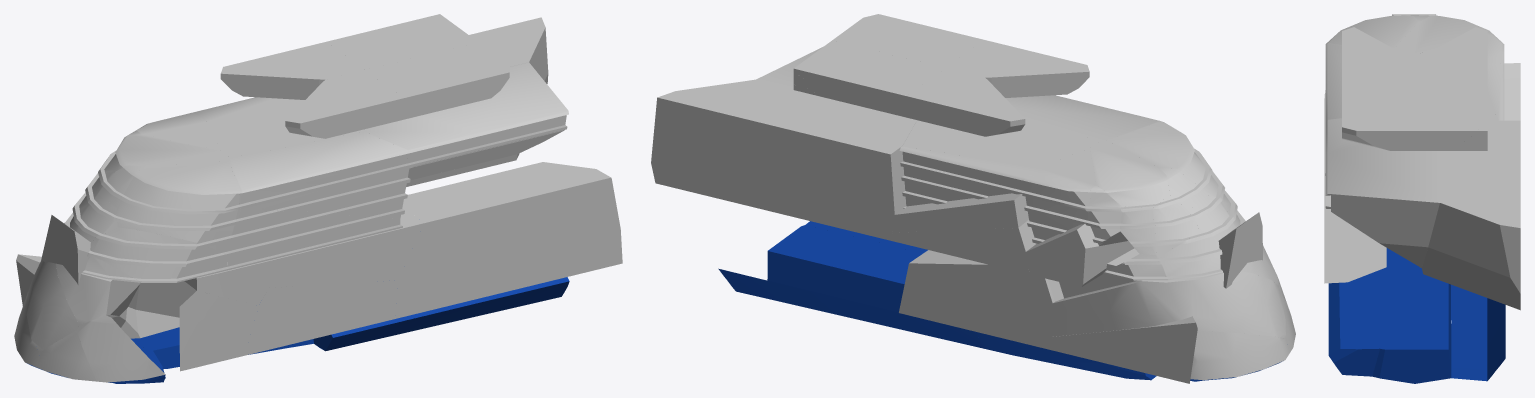
The model's file is ship_break_rear.fbx.
The picture shows the model from 3 angles, left to right: view 1: azimuth 30°, elevation 25°; view 2: azimuth 150°, elevation 25°; view 3: azimuth 270°, elevation 25°; orthographic projection. The views are drawn at different scales.
Visible parts, largest first — view 1: Plane002_cell.010, Plane004_cell.010, Plane004_cell.017, Plane004_cell.011, Plane002_cell.021, Rectangle008_cell.035, Plane004_cell.021, Plane002_cell.016, Rectangle008_cell.024, Plane004_cell.027, Rectangle008_cell.033, Plane002_cell.019 (+20 smaller); view 2: Plane004_cell.001, Plane002_cell.034, Shape_cell.047, Rectangle008_cell.034, Plane002_cell.002, Plane002_cell.009, Plane004_cell.012, Rectangle008_cell.033, Plane004_cell.035, Plane002_cell.045, Rectangle008_cell.024, Plane004_cell.025 (+22 smaller); view 3: Plane004_cell.001, Plane004_cell.017, Shape_cell.047, Rectangle008_cell.035, Shape_cell.028, Rectangle008_cell.034, Shape_cell.036, Plane002_cell.010, Rectangle008_cell.033, Rectangle008_cell.024, Plane004_cell.040, Plane004_cell.011 (+8 smaller).
Boxes of the visible parts, x1=… form: Plane002_cell.010: x1=395, y1=162, x2=622, y2=318; Plane004_cell.010: x1=228, y1=132, x2=412, y2=219; Plane004_cell.017: x1=364, y1=62, x2=568, y2=179; Plane004_cell.011: x1=115, y1=161, x2=240, y2=253; Plane002_cell.021: x1=245, y1=280, x2=398, y2=355; Rectangle008_cell.035: x1=366, y1=42, x2=509, y2=119; Plane004_cell.021: x1=227, y1=207, x2=402, y2=269; Plane002_cell.016: x1=269, y1=206, x2=423, y2=287; Rectangle008_cell.024: x1=285, y1=70, x2=403, y2=138; Plane004_cell.027: x1=88, y1=227, x2=229, y2=282; Rectangle008_cell.033: x1=220, y1=41, x2=364, y2=99; Plane002_cell.019: x1=179, y1=291, x2=258, y2=371; Plane004_cell.001: x1=651, y1=79, x2=916, y2=240; Plane002_cell.034: x1=899, y1=250, x2=1063, y2=349; Shape_cell.047: x1=767, y1=225, x2=922, y2=312; Rectangle008_cell.034: x1=801, y1=40, x2=944, y2=117; Plane002_cell.002: x1=1052, y1=278, x2=1192, y2=336; Plane002_cell.009: x1=1049, y1=316, x2=1197, y2=383; Plane004_cell.012: x1=899, y1=146, x2=1036, y2=208; Rectangle008_cell.033: x1=907, y1=68, x2=1025, y2=136; Plane004_cell.035: x1=903, y1=119, x2=1099, y2=167; Plane002_cell.045: x1=1190, y1=271, x2=1285, y2=338; Rectangle008_cell.024: x1=946, y1=40, x2=1089, y2=97; Plane004_cell.025: x1=1022, y1=148, x2=1095, y2=243; Plane004_cell.001: x1=1422, y1=120, x2=1520, y2=310; Plane004_cell.017: x1=1325, y1=118, x2=1439, y2=267; Shape_cell.047: x1=1372, y1=248, x2=1451, y2=383; Rectangle008_cell.035: x1=1342, y1=78, x2=1414, y2=150; Shape_cell.028: x1=1328, y1=270, x2=1379, y2=376; Rectangle008_cell.034: x1=1415, y1=78, x2=1487, y2=150; Shape_cell.036: x1=1451, y1=284, x2=1505, y2=381; Plane002_cell.010: x1=1324, y1=197, x2=1386, y2=283; Rectangle008_cell.033: x1=1415, y1=27, x2=1487, y2=78; Rectangle008_cell.024: x1=1342, y1=27, x2=1414, y2=78; Plane004_cell.040: x1=1394, y1=15, x2=1488, y2=54; Plane004_cell.011: x1=1326, y1=15, x2=1418, y2=48.
Bounding box in the file's own units: 141 × 57.4 × 44.01.
